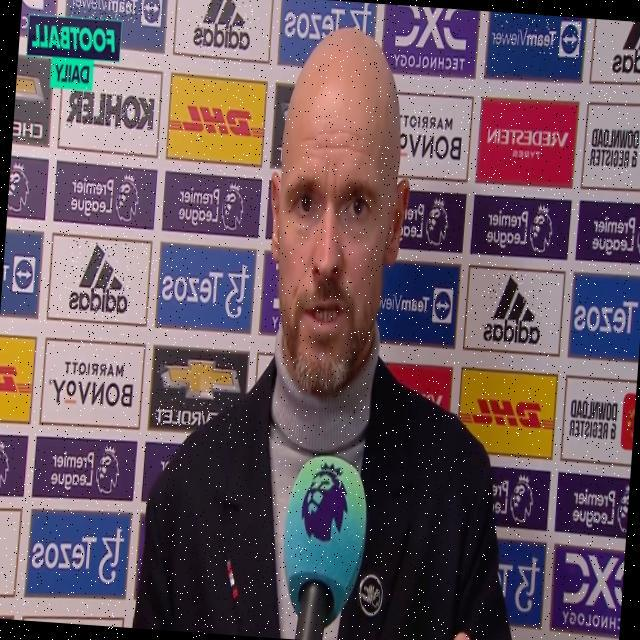Adidas: (67, 240, 133, 316), (481, 272, 544, 347), (191, 0, 253, 51)
Chevrolet: (153, 353, 241, 430)
Kohler: (65, 86, 156, 133)
TeamViewer: (489, 14, 582, 60), (68, 0, 160, 24)
